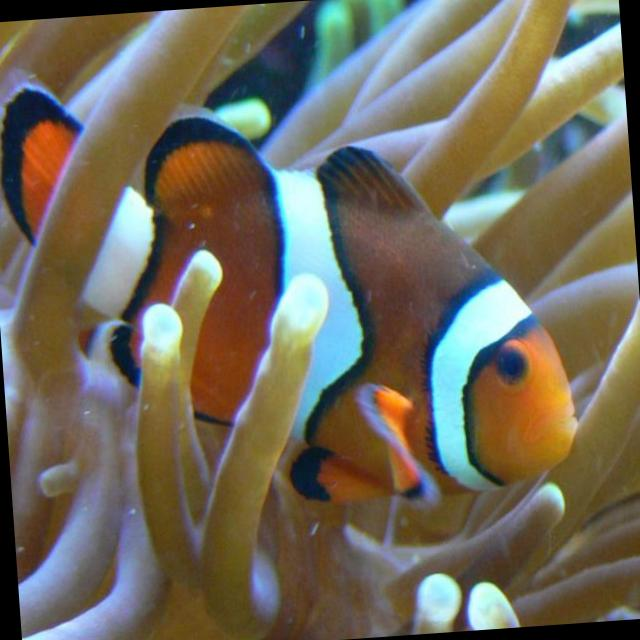ClownFish: (0, 34, 585, 532)
